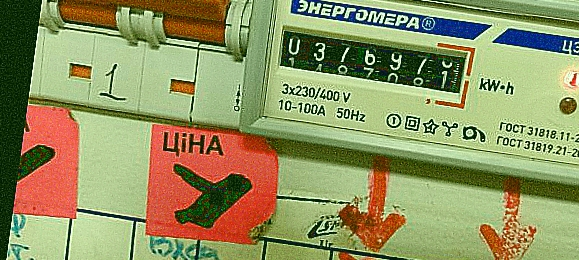0: (283, 33, 302, 56)
1: (436, 68, 450, 90)
3: (310, 38, 327, 63)
6: (362, 43, 377, 66)
7: (336, 39, 352, 64), (412, 51, 428, 76)
9: (386, 48, 402, 71)
screen: (267, 17, 477, 112)
